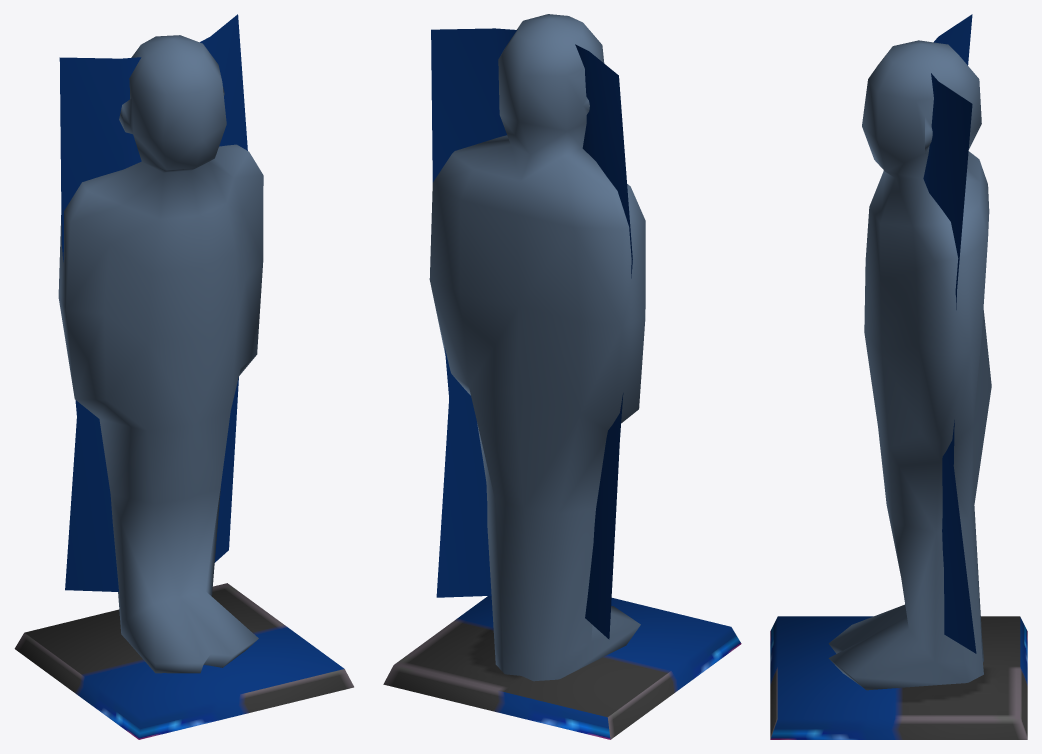
The model's file is int_sch_manikin_clear.dae.
3 renders of one model, left to right at view 1: azimuth 30°, elevation 25°; view 2: azimuth 150°, elevation 25°; view 3: azimuth 270°, elevation 25°, orthographic. The views are drawn at different scales.
Parts seen in each view (by area): view 1: int_sch_manikin_clear; view 2: int_sch_manikin_clear; view 3: int_sch_manikin_clear.
Part boxes in pixels (bbox=[...]): int_sch_manikin_clear: bbox=[14, 14, 353, 739]; int_sch_manikin_clear: bbox=[383, 14, 741, 739]; int_sch_manikin_clear: bbox=[770, 14, 1027, 739].
Size of the model in its own units: 20.8 by 57.2 by 20.8.
Materials: 2 (2 with a texture image).
